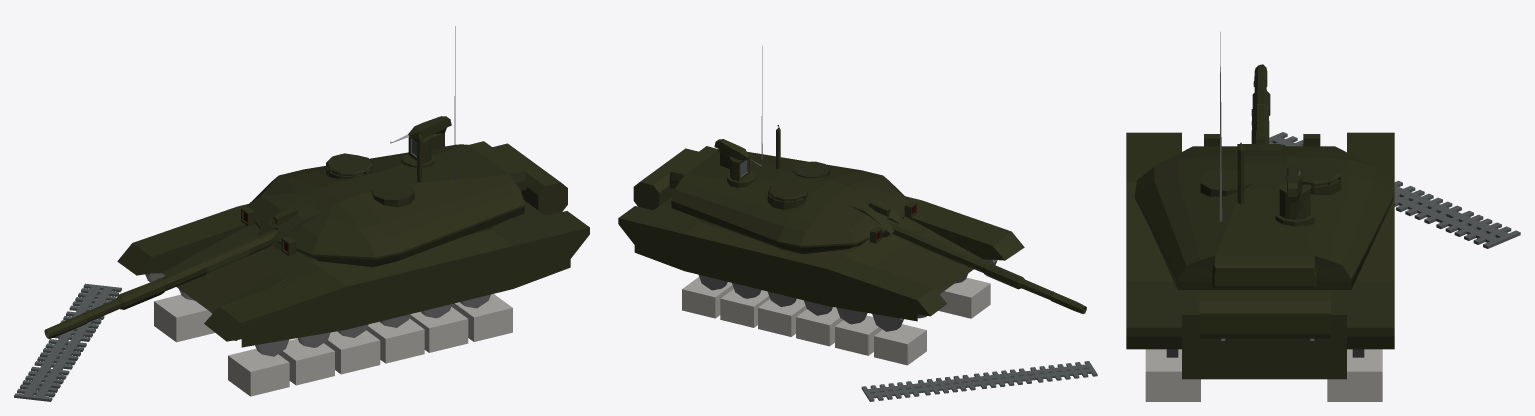
Rendered from Model_czolg.fbx.
3 views of the same model, side by side, from view 1: azimuth 30°, elevation 25°; view 2: azimuth 150°, elevation 25°; view 3: azimuth 270°, elevation 25° (orthographic). The views are drawn at different scales.
Visible parts, largest first — view 1: mesh_czolg; view 2: mesh_czolg; view 3: mesh_czolg.
Part boxes in pixels (bbox=[...]): mesh_czolg: bbox=[14, 26, 589, 401]; mesh_czolg: bbox=[618, 46, 1097, 401]; mesh_czolg: bbox=[1126, 32, 1520, 401].
Size of the model in its own units: 193 by 200 by 360.
